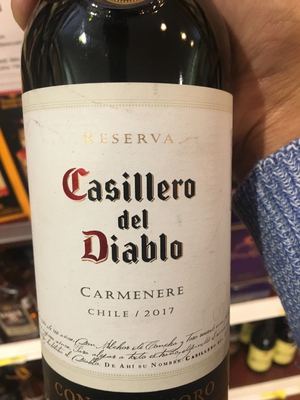casillero del diablo carmenere: (19, 7, 249, 400)
